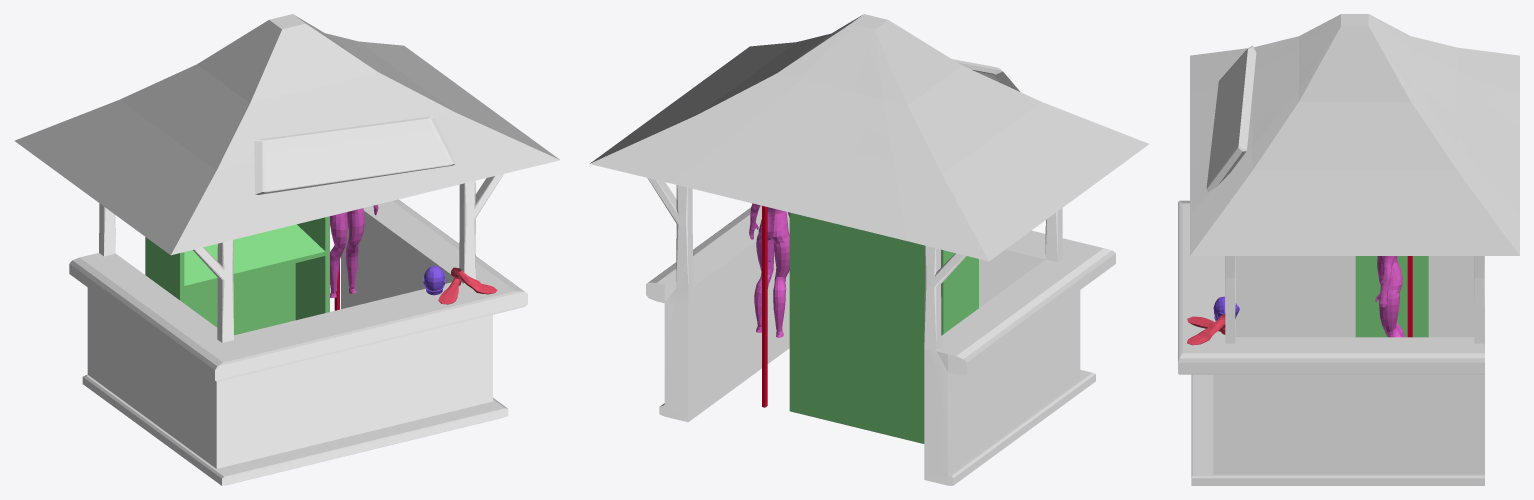
The model's file is shop with shelves.fbx.
3 views of the same model, side by side, from view 1: azimuth 30°, elevation 25°; view 2: azimuth 150°, elevation 25°; view 3: azimuth 270°, elevation 25° (orthographic). The views are drawn at different scales.
Visible parts, largest first — view 1: shackAri.001, big shelf, shop_signUV2, HelmetModel, HelmetModel.001; view 2: shackAri.001, big shelf, HelmetModel, hanger, shop_signUV2; view 3: shackAri.001, shop_signUV2, big shelf, HelmetModel, HelmetModel.001, hanger.
Boxes of the visible parts, x1=… form: shackAri.001: x1=14, y1=14, x2=560, y2=485; big shelf: x1=145, y1=216, x2=329, y2=335; shop_signUV2: x1=254, y1=116, x2=455, y2=194; HelmetModel: x1=330, y1=204, x2=378, y2=297; HelmetModel.001: x1=438, y1=267, x2=497, y2=304; shackAri.001: x1=590, y1=14, x2=1148, y2=485; big shelf: x1=789, y1=212, x2=978, y2=443; HelmetModel: x1=749, y1=203, x2=789, y2=337; hanger: x1=762, y1=206, x2=767, y2=407; shop_signUV2: x1=952, y1=59, x2=1020, y2=91; shackAri.001: x1=1178, y1=14, x2=1519, y2=485; shop_signUV2: x1=1206, y1=45, x2=1256, y2=192; big shelf: x1=1355, y1=256, x2=1428, y2=337; HelmetModel: x1=1375, y1=256, x2=1404, y2=337; HelmetModel.001: x1=1187, y1=314, x2=1225, y2=345; hanger: x1=1407, y1=256, x2=1412, y2=337.
Size of the model in its own units: 400 by 367 by 288.
